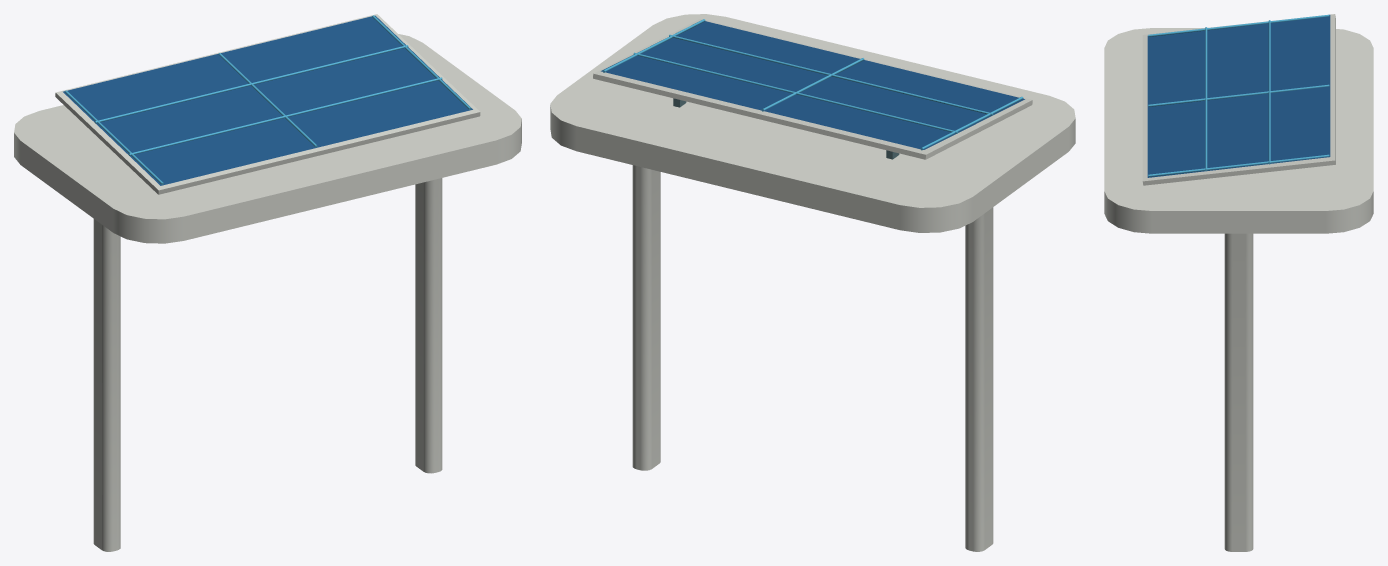
Rendered from solar-canopy-low.glb.
3 renders of one model, left to right at view 1: azimuth 30°, elevation 25°; view 2: azimuth 150°, elevation 25°; view 3: azimuth 270°, elevation 25°, orthographic. The views are drawn at different scales.
Parts seen in each view (by area): view 1: solar shade column, photovoltaic cells, solar cell division; view 2: solar shade column, photovoltaic cells, solar cell division; view 3: solar shade column, photovoltaic cells, solar cell division.
Boxes of the visible parts, x1,y1,x2,y2 form: solar shade column: (14, 14, 521, 551); photovoltaic cells: (63, 15, 472, 185); solar cell division: (64, 15, 471, 184); solar shade column: (550, 14, 1075, 551); photovoltaic cells: (601, 21, 1024, 149); solar cell division: (603, 19, 1023, 150); solar shade column: (1104, 14, 1373, 551); photovoltaic cells: (1147, 14, 1330, 177); solar cell division: (1148, 14, 1329, 176).
Bounding box in the file's own units: 2.25 × 2.23 × 1.4.
